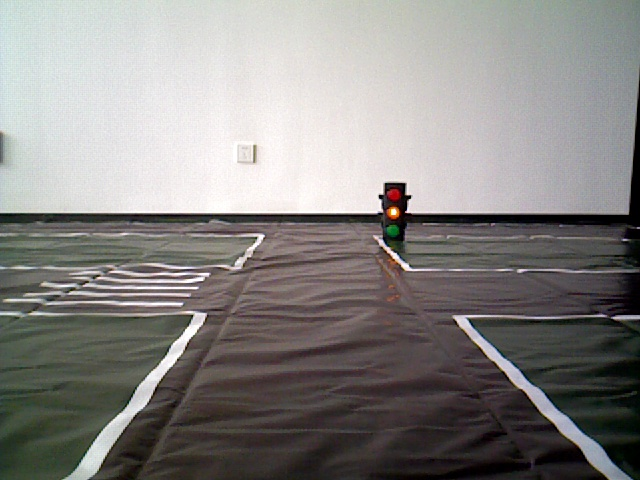yellow: (381, 184, 408, 241)
